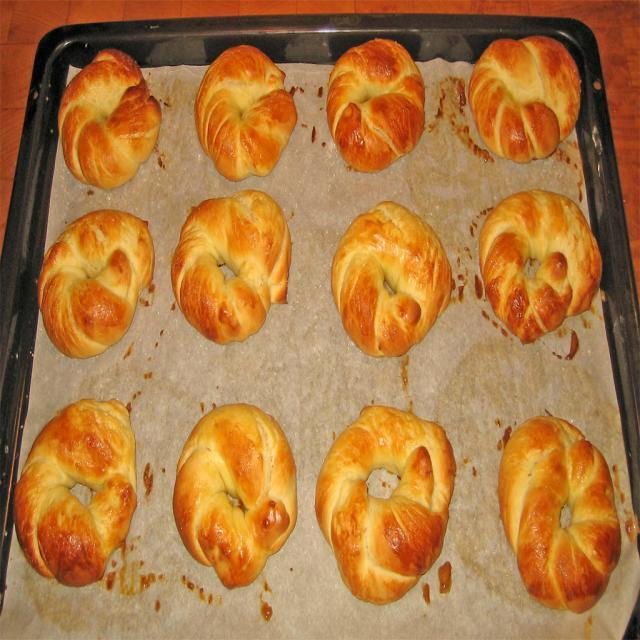Bagel: (311, 399, 460, 606), (493, 410, 629, 626), (8, 391, 141, 600), (167, 402, 302, 595), (474, 182, 606, 350), (326, 193, 453, 360), (168, 188, 293, 354), (28, 202, 158, 360), (58, 43, 168, 193), (194, 40, 302, 187), (467, 32, 584, 162), (328, 33, 431, 180)
